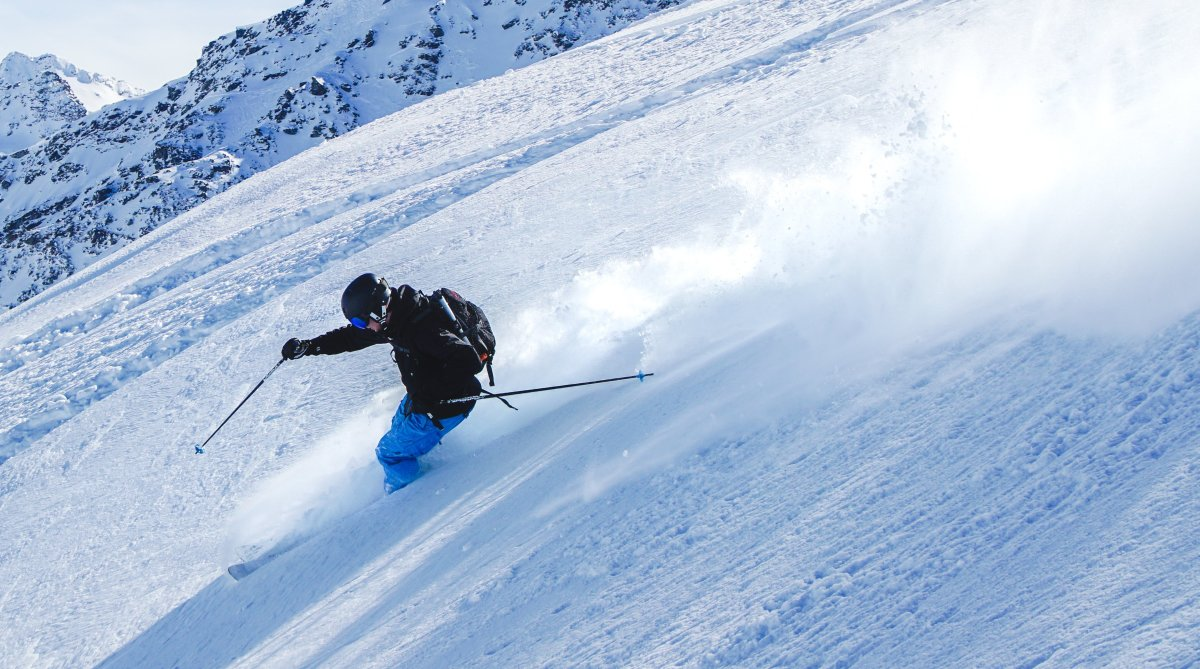skier: (195, 225, 662, 594)
